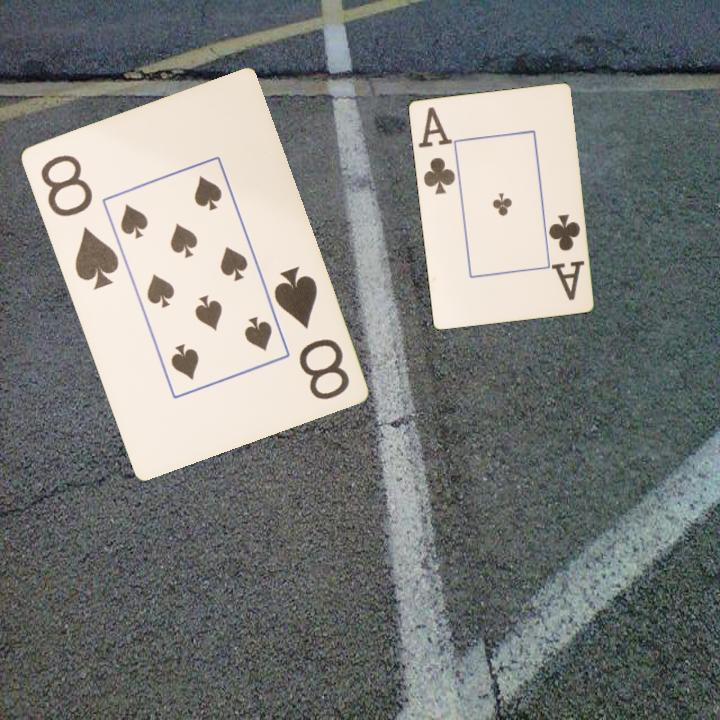8s: (36, 150, 121, 292), (269, 262, 352, 403)
Ac: (414, 103, 458, 197), (544, 210, 587, 303)
